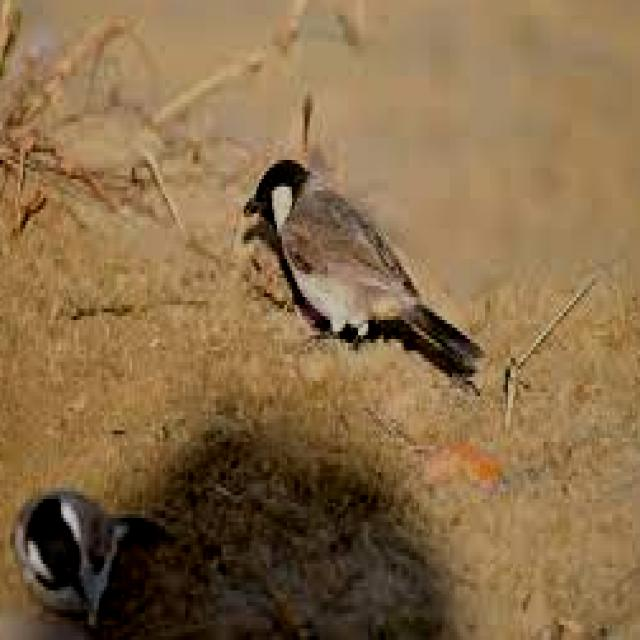bird: (242, 153, 486, 408), (6, 468, 173, 640)
